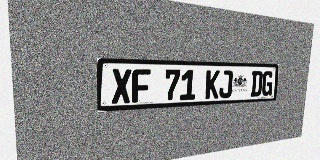1: (180, 70, 196, 100)
7: (163, 69, 181, 101)
D: (250, 71, 263, 97)
F: (132, 69, 151, 103)
G: (261, 71, 274, 96)
J: (219, 70, 233, 98)
K: (205, 70, 220, 99)
X: (112, 69, 131, 104)
